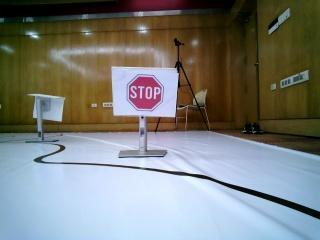stop: (118, 72, 171, 116)
